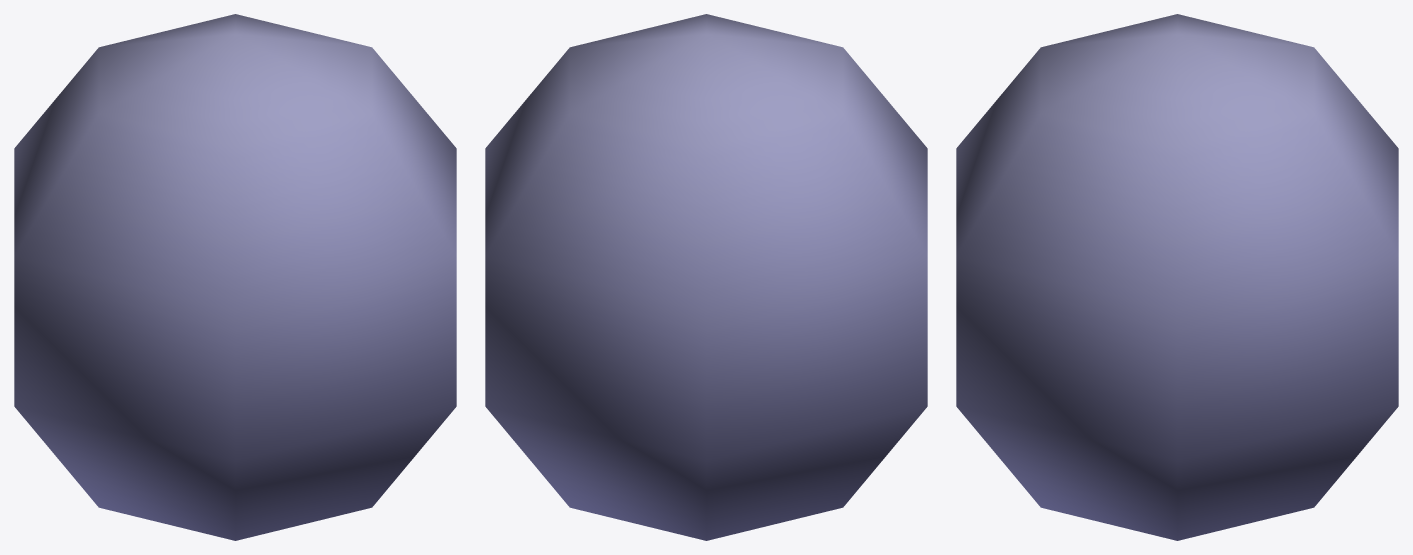
Rendered from cannon-ball.fbx.
3 views of the same model, side by side, from view 1: azimuth 30°, elevation 25°; view 2: azimuth 150°, elevation 25°; view 3: azimuth 270°, elevation 25° (orthographic).
Visible parts, largest first — view 1: cannon-ball; view 2: cannon-ball; view 3: cannon-ball.
Boxes of the visible parts, x1,y1,x2,y2 form: cannon-ball: [14, 14, 456, 540]; cannon-ball: [485, 14, 927, 540]; cannon-ball: [956, 14, 1398, 540].
Bounding box in the file's own units: 63.72 × 67 × 55.18.
